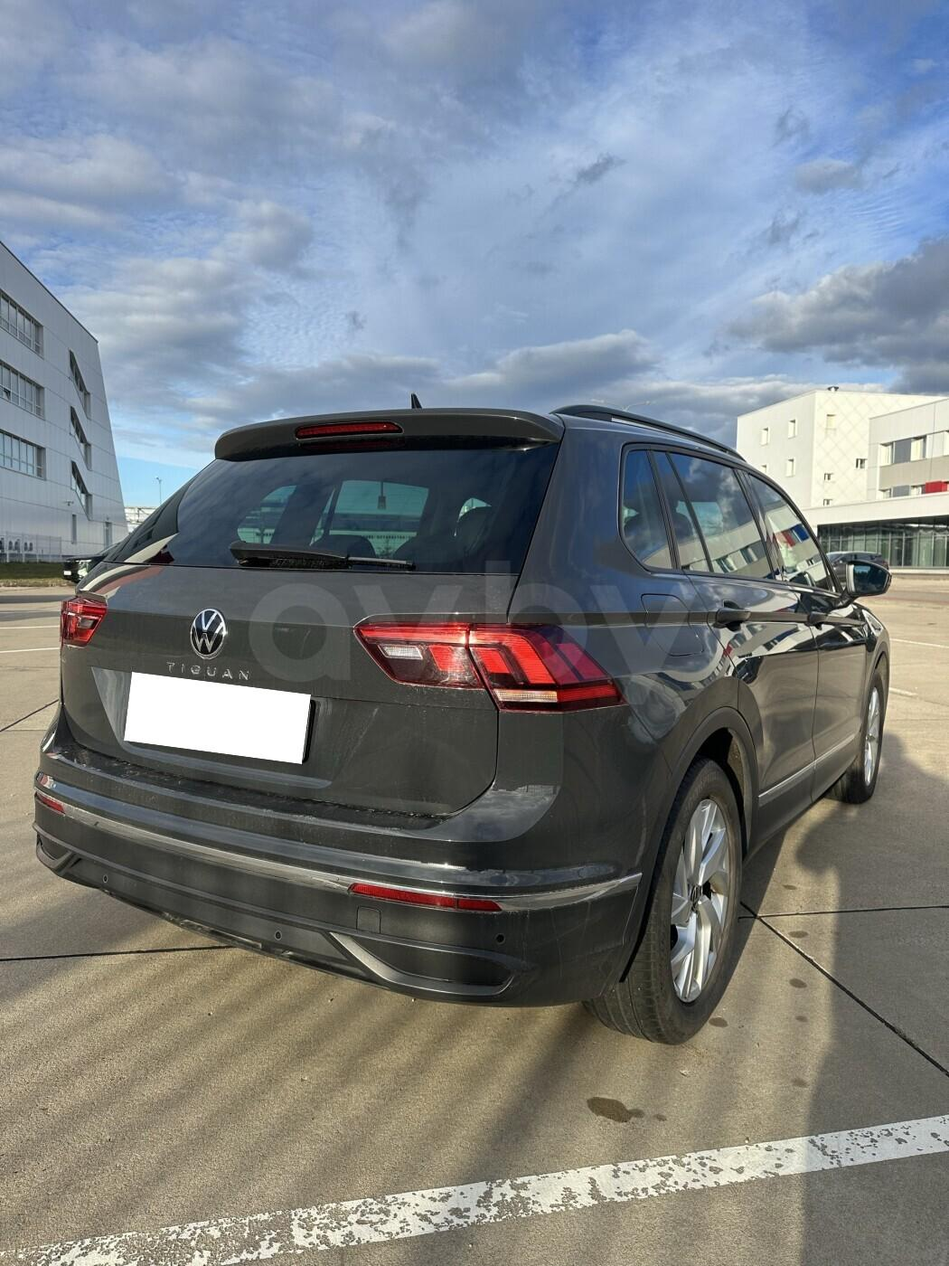Tiguan_2016-2021: (23, 398, 898, 1035)
